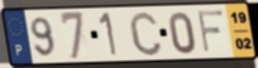0: (167, 9, 199, 56)
1: (98, 11, 119, 58)
7: (58, 10, 87, 62)
9: (29, 15, 57, 58)
C: (127, 9, 165, 58)
F: (195, 8, 226, 55)
